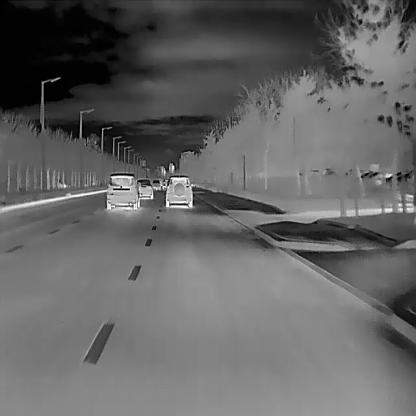car: (106, 172, 140, 210), (165, 175, 193, 208), (136, 178, 152, 199), (151, 179, 160, 190), (162, 177, 168, 190)
